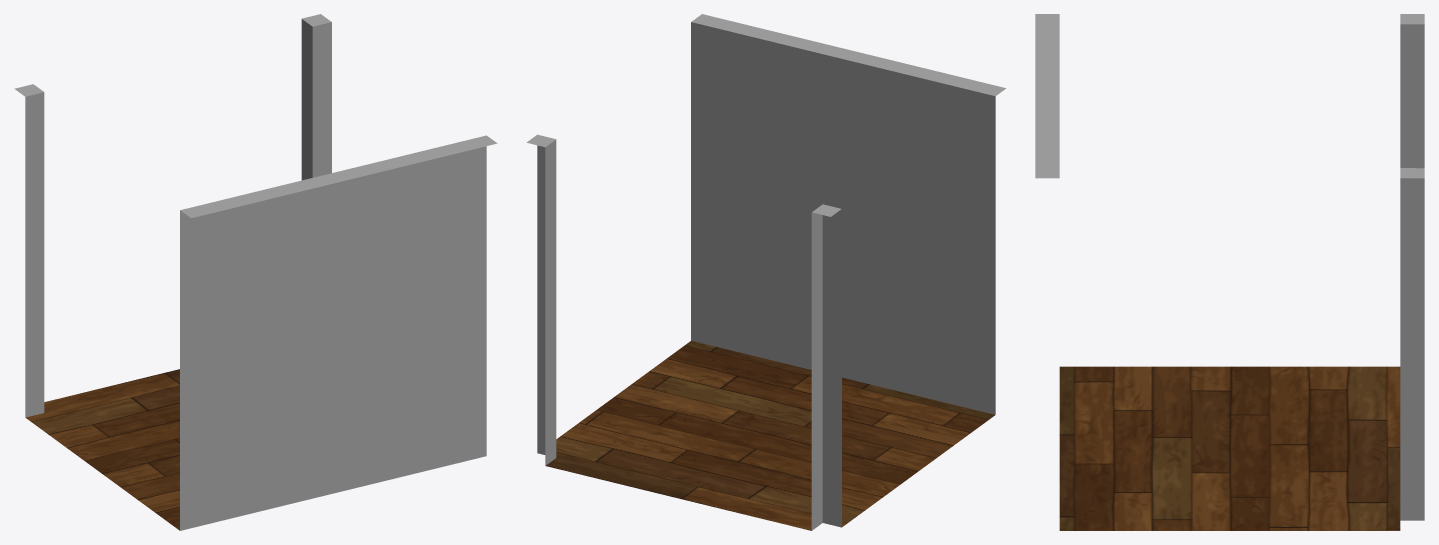
Rendered from Int_House_Hall_OneSide_01.fbx.
3 renders of one model, left to right at view 1: azimuth 30°, elevation 25°; view 2: azimuth 150°, elevation 25°; view 3: azimuth 270°, elevation 25°, orthographic. The views are drawn at different scales.
Visible parts, largest first — view 1: Int_House_Hall_OneSide_01; view 2: Int_House_Hall_OneSide_01; view 3: Int_House_Hall_OneSide_01.
Boxes of the visible parts, x1=… form: Int_House_Hall_OneSide_01: x1=14, y1=14, x2=497, y2=530; Int_House_Hall_OneSide_01: x1=527, y1=14, x2=1005, y2=530; Int_House_Hall_OneSide_01: x1=1035, y1=14, x2=1424, y2=530.
Size of the model in its own units: 400 by 400 by 400.
2 materials, 1 textured.
